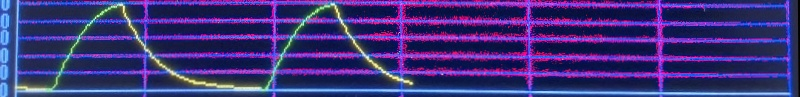normal_volume: (13, 0, 412, 97)
